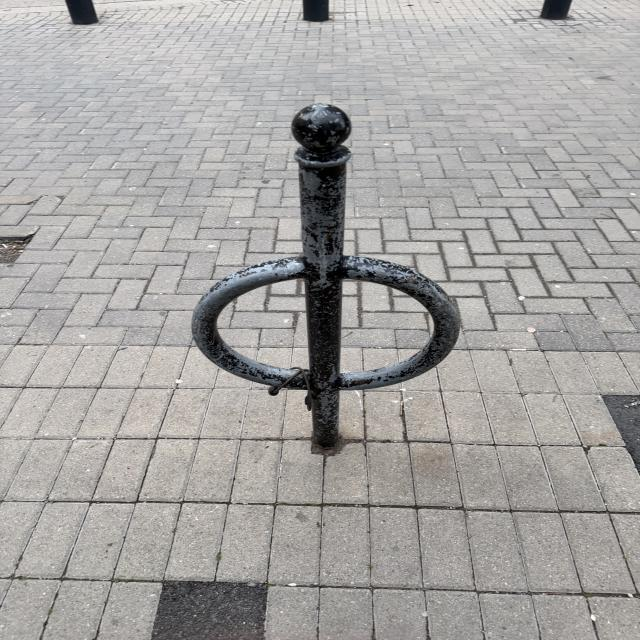Bicycle Rack: (189, 103, 460, 443)
